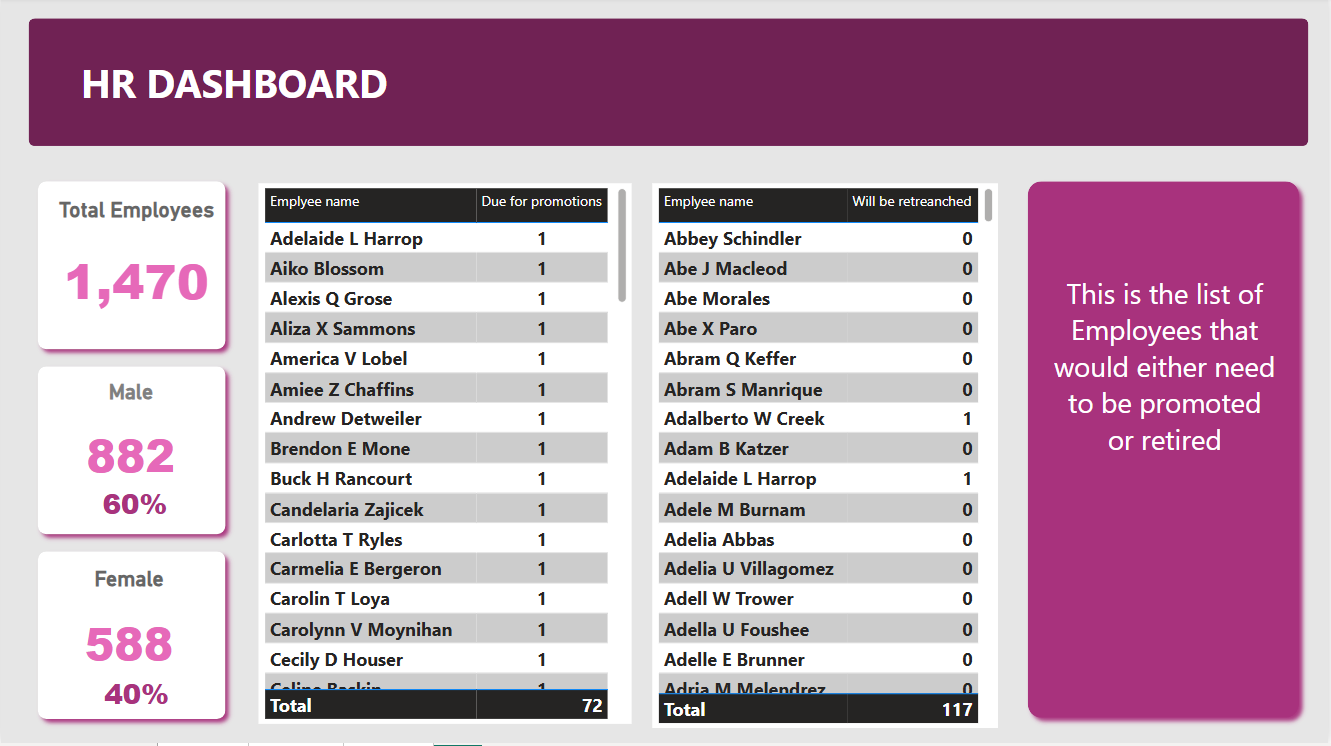

What the dashboard file says about the page in this screenshot:
{"tool":"powerbi","page":{"name":"Action","canvas":[1280,720],"ordinal":1},"visuals":[{"type":"shape","box":[982.3,168.3,279.7,535.7],"z":0},{"type":"shape","box":[26.1,20.6,1235,123.5],"z":1000},{"type":"textbox","box":[26.1,53.5,396.6,72.7],"z":2000},{"type":"shape","box":[26.1,169,199,180],"z":3000},{"type":"shape","box":[26.1,347.2,199,180],"z":4000},{"type":"shape","box":[26.1,525.6,199,179.8],"z":5000},{"type":"card","title":"Total Employees","fields":{"Values":["All Measures.Total Emp"]},"box":[35.7,193.5,189.4,134.5],"z":7000},{"type":"card","title":"Female","fields":{"Values":["All Measures.Female"]},"box":[34.3,548.9,179.8,124.9],"z":8000},{"type":"card","title":"Female","fields":{"Values":["All Measures.% female"]},"box":[35.7,640.8,189.4,64.5],"z":9000},{"type":"card","title":"Male","fields":{"Values":["All Measures.Male"]},"box":[35.7,369.1,178.4,120.8],"z":10000},{"type":"card","title":"Female","fields":{"Values":["All Measures.% male"]},"box":[34.3,456.9,190.7,64.5],"z":11000},{"type":"tableEx","fields":{"Values":["HR employee data.Emplyee name","All Measures.Due for promotions"]},"box":[249,179.5,360.3,521.7],"z":12000},{"type":"tableEx","fields":{"Values":["HR employee data.Emplyee name","All Measures.Will be retreanched"]},"box":[628.9,179.5,333.9,525.9],"z":13000},{"type":"textbox","box":[1010.1,247.7,224,367.3],"z":14000}]}

Visuals, with their boxes in screenshot pixels (x1, y1, x2, y2), scaled from the page's 1280x720 canvas onto the 1331x746 screenshot:
shape: left=1021, top=174, right=1312, bottom=729
shape: left=27, top=21, right=1311, bottom=149
textbox: left=27, top=55, right=440, bottom=131
shape: left=27, top=175, right=234, bottom=362
shape: left=27, top=360, right=234, bottom=546
shape: left=27, top=545, right=234, bottom=731
"Total Employees" card: left=37, top=200, right=234, bottom=340
"Female" card: left=36, top=569, right=223, bottom=698
"Female" card: left=37, top=664, right=234, bottom=731
"Male" card: left=37, top=382, right=223, bottom=508
"Female" card: left=36, top=473, right=234, bottom=540
tableEx - HR employee data.Emplyee name x All Measures.Due for promotions: left=259, top=186, right=634, bottom=727
tableEx - HR employee data.Emplyee name x All Measures.Will be retreanched: left=654, top=186, right=1001, bottom=731
textbox: left=1050, top=257, right=1283, bottom=637
